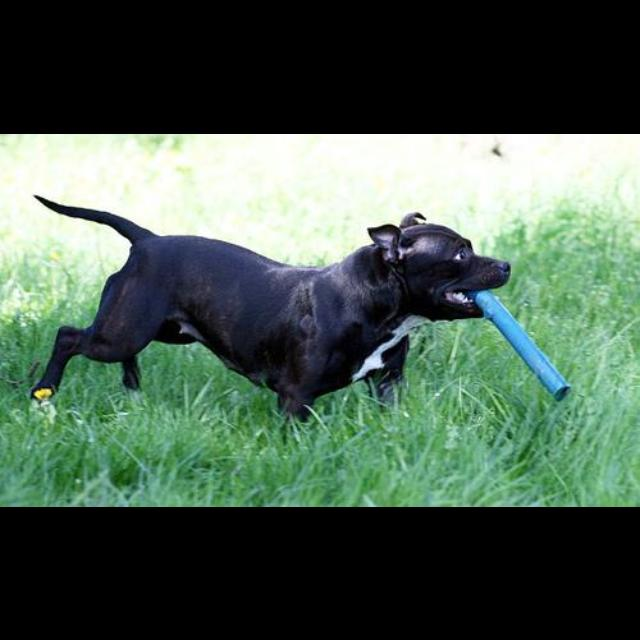staffford: (29, 193, 511, 431)
